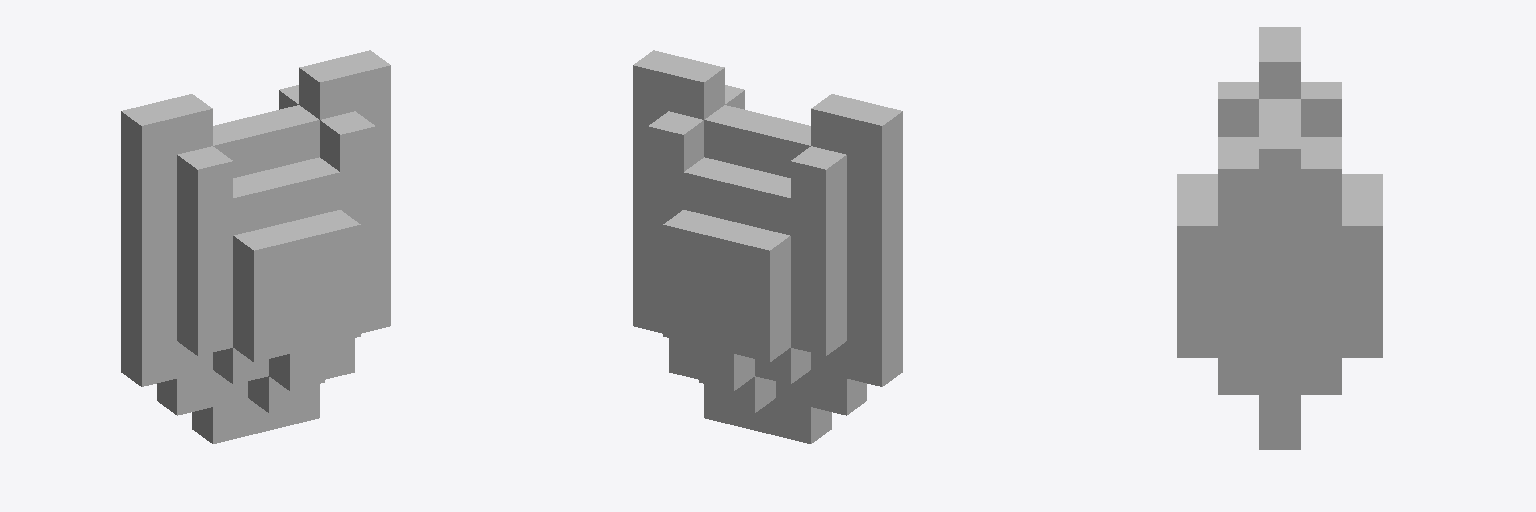
File: Shield.obj
3 renders of one model, left to right at view 1: azimuth 30°, elevation 25°; view 2: azimuth 150°, elevation 25°; view 3: azimuth 270°, elevation 25°, orthographic.
Parts seen in each view (by area): view 1: object 1; view 2: object 1; view 3: object 1.
Part boxes in pixels (left/top/right/bottom): object 1: left=121, top=50, right=390, bottom=443; object 1: left=633, top=50, right=902, bottom=443; object 1: left=1177, top=27, right=1382, bottom=449.
Bounding box in the file's own units: 0.7 × 0.9 × 0.5.